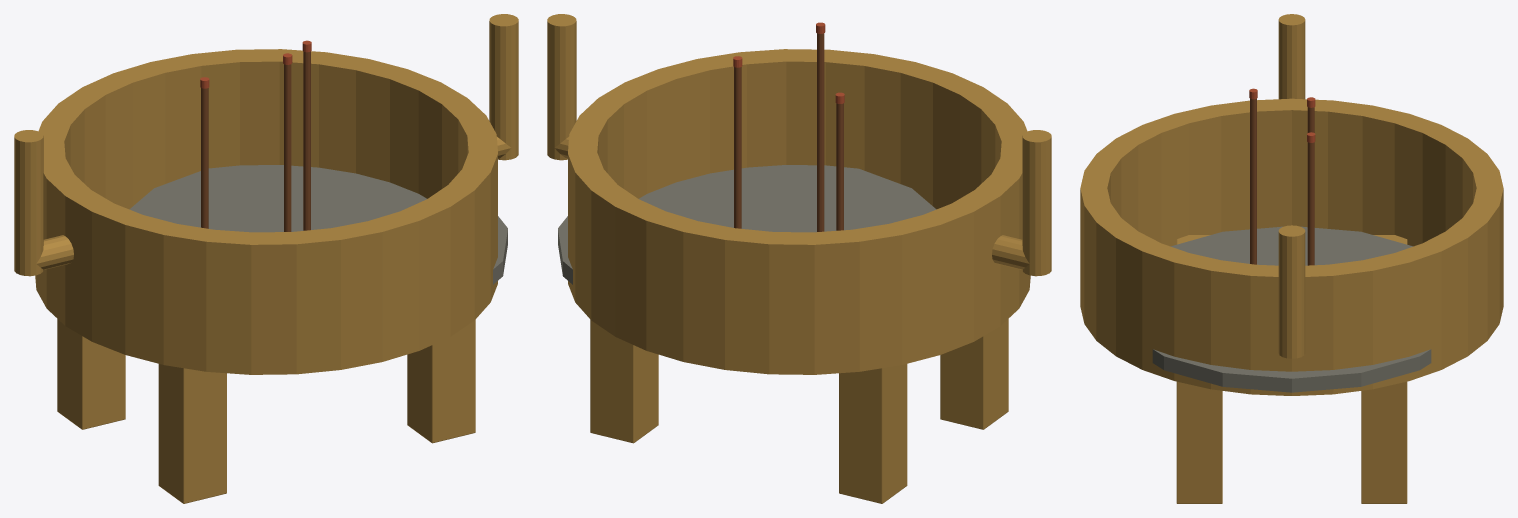
Rendered from source-edit.glb.
The picture shows the model from 3 angles, left to right: view 1: azimuth 30°, elevation 25°; view 2: azimuth 150°, elevation 25°; view 3: azimuth 270°, elevation 25°; orthographic projection. The views are drawn at different scales.
Visible parts, largest first — view 1: Bowl, Ash_Bed, Foot, Foot.002, Foot.001, Handle_Upright, Handle_Upright.001, Incense_Stick.002, Incense_Stick.001, Incense_Stick, Handle_Link; view 2: Bowl, Ash_Bed, Foot.001, Foot.003, Foot, Handle_Upright, Handle_Upright.001, Incense_Stick.001, Incense_Stick.002, Incense_Stick, Handle_Link; view 3: Bowl, Ash_Bed, Foot.002, Foot.003, Handle_Upright.001, Handle_Upright, Incense_Stick.001, Incense_Stick.002.
Part boxes in pixels (bbox=[...]): Bowl: bbox=[35, 49, 497, 374]; Ash_Bed: bbox=[129, 165, 507, 284]; Foot: bbox=[158, 364, 226, 503]; Foot.002: bbox=[407, 320, 475, 443]; Foot.001: bbox=[57, 319, 125, 429]; Handle_Upright: bbox=[14, 130, 43, 276]; Handle_Upright.001: bbox=[489, 14, 518, 160]; Incense_Stick.002: bbox=[303, 51, 310, 230]; Incense_Stick.001: bbox=[284, 64, 291, 231]; Incense_Stick: bbox=[201, 88, 208, 228]; Handle_Link: bbox=[36, 235, 73, 269]; Bowl: bbox=[568, 49, 1030, 374]; Ash_Bed: bbox=[558, 165, 936, 284]; Foot.001: bbox=[839, 364, 907, 503]; Foot.003: bbox=[590, 320, 658, 443]; Foot: bbox=[940, 319, 1008, 429]; Handle_Upright: bbox=[1022, 130, 1051, 276]; Handle_Upright.001: bbox=[547, 14, 576, 160]; Incense_Stick.001: bbox=[817, 33, 824, 231]; Incense_Stick.002: bbox=[734, 67, 741, 228]; Incense_Stick: bbox=[836, 103, 843, 230]; Handle_Link: bbox=[992, 235, 1029, 269]; Bowl: bbox=[1080, 98, 1503, 395]; Ash_Bed: bbox=[1152, 226, 1431, 392]; Foot.002: bbox=[1176, 381, 1222, 503]; Foot.003: bbox=[1361, 381, 1407, 503]; Handle_Upright.001: bbox=[1278, 225, 1305, 358]; Handle_Upright: bbox=[1278, 14, 1305, 99]; Incense_Stick.001: bbox=[1250, 98, 1256, 264]; Incense_Stick.002: bbox=[1307, 142, 1314, 265].
Size of the model in its own units: 1.37 by 1 by 1.1.
